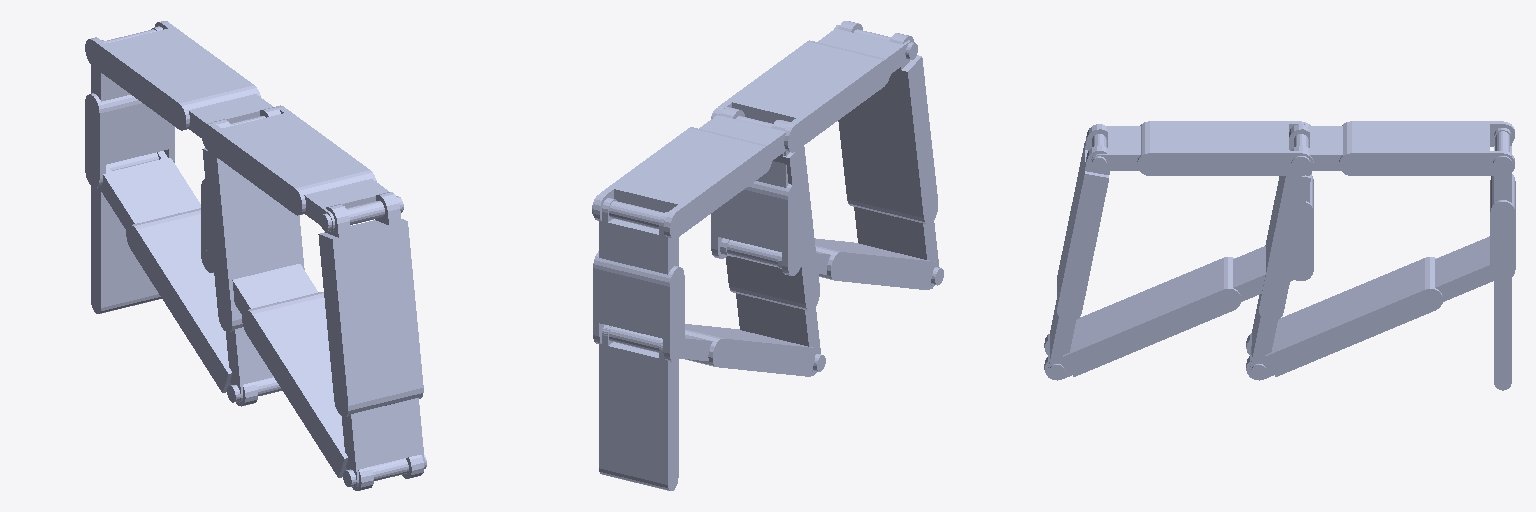
robot.urdf — larva54:
<?xml version="1.0" encoding="utf-8"?>
<!-- This URDF was automatically created by SolidWorks to URDF Exporter! Originally created by Stephen Brawner ([email redacted]) 
     Commit Version: 1.6.0-4-g7f85cfe  Build Version: 1.6.7995.38578
     For more information, please see http://wiki.ros.org/sw_urdf_exporter -->
<robot
  name="larva54">
  <link
    name="base_link">
    <inertial>
      <origin
        xyz="-0.000499999999999973 0 -4.44089209850063E-16"
        rpy="0 0 0" />
      <mass
        value="5.02654824574367E-05" />
      <inertia
        ixx="4.02123859659494E-10"
        ixy="-5.68086652660395E-26"
        ixz="-7.06335332977124E-26"
        iyy="2.05250720034533E-10"
        iyz="1.93870456067116E-26"
        izz="2.05250720034533E-10" />
    </inertial>
    <visual>
      <origin
        xyz="0 0 0"
        rpy="0 0 0" />
      <geometry>
        <mesh
          filename="package://larva54/meshes/base_link.STL" />
      </geometry>
      <material
        name="">
        <color
          rgba="0.792156862745098 0.819607843137255 0.933333333333333 1" />
      </material>
    </visual>
    <collision>
      <origin
        xyz="0 0 0"
        rpy="0 0 0" />
      <geometry>
        <mesh
          filename="package://larva54/meshes/base_link.STL" />
      </geometry>
    </collision>
  </link>
  <link
    name="rsec11">
    <inertial>
      <origin
        xyz="0.0150000000000001 -0.0272479653741931 4.44089209850063E-16"
        rpy="0 0 0" />
      <mass
        value="0.00814247932954212" />
      <inertia
        ixx="2.58090802782193E-06"
        ixy="-3.71116898050847E-21"
        ixz="-6.24497133474091E-22"
        iyy="9.04351126416434E-07"
        iyz="1.02702744854584E-20"
        izz="3.27245109843997E-06" />
    </inertial>
    <visual>
      <origin
        xyz="0 0 0"
        rpy="0 0 0" />
      <geometry>
        <mesh
          filename="package://larva54/meshes/rsec11.STL" />
      </geometry>
      <material
        name="">
        <color
          rgba="0.792156862745098 0.819607843137255 0.933333333333333 1" />
      </material>
    </visual>
    <collision>
      <origin
        xyz="0 0 0"
        rpy="0 0 0" />
      <geometry>
        <mesh
          filename="package://larva54/meshes/rsec11.STL" />
      </geometry>
    </collision>
  </link>
  <joint
    name="rjoint11"
    type="revolute">
    <origin
      xyz="-0.031 0 0"
      rpy="0 0 0" />
    <parent
      link="base_link" />
    <child
      link="rsec11" />
    <axis
      xyz="1 0 0" />
    <limit
      lower="-3.14"
      upper="3.14"
      effort="100"
      velocity="100" />
  </joint>
  <link
    name="psec11">
    <inertial>
      <origin
        xyz="5.82867087928207E-16 -0.0444356741319128 -4.44089209850063E-16"
        rpy="0 0 0" />
      <mass
        value="0.00950290648044837" />
      <inertia
        ixx="2.06910554500492E-06"
        ixy="1.61044855384348E-21"
        ixz="1.6362477167982E-24"
        iyy="6.3101540452144E-07"
        iyz="2.96461531539005E-21"
        izz="2.62322222113119E-06" />
    </inertial>
    <visual>
      <origin
        xyz="0 0 0"
        rpy="0 0 0" />
      <geometry>
        <mesh
          filename="package://larva54/meshes/psec11.STL" />
      </geometry>
      <material
        name="">
        <color
          rgba="0.792156862745098 0.819607843137255 0.933333333333333 1" />
      </material>
    </visual>
    <collision>
      <origin
        xyz="0 0 0"
        rpy="0 0 0" />
      <geometry>
        <mesh
          filename="package://larva54/meshes/psec11.STL" />
      </geometry>
    </collision>
  </link>
  <joint
    name="pjoint11"
    type="prismatic">
    <origin
      xyz="0.0150000000000004 -0.00800000000000095 0"
      rpy="0 0 0" />
    <parent
      link="rsec11" />
    <child
      link="psec11" />
    <axis
      xyz="0 -1 0" />
    <limit
      lower="-0.01"
      upper="0.01"
      effort="100"
      velocity="100" />
  </joint>
  <link
    name="rsec12">
    <inertial>
      <origin
        xyz="0.0149999999999993 -0.00521814457836545 -0.0282191168584589"
        rpy="0 0 0" />
      <mass
        value="0.00900245720098014" />
      <inertia
        ixx="3.53141255495156E-06"
        ixy="-1.21392399109586E-21"
        ixz="-2.01856962146286E-21"
        iyy="4.16190674038217E-06"
        iyz="-5.89210772270563E-07"
        izz="1.08447769952084E-06" />
    </inertial>
    <visual>
      <origin
        xyz="0 0 0"
        rpy="0 0 0" />
      <geometry>
        <mesh
          filename="package://larva54/meshes/rsec12.STL" />
      </geometry>
      <material
        name="">
        <color
          rgba="0.792156862745098 0.819607843137255 0.933333333333333 1" />
      </material>
    </visual>
    <collision>
      <origin
        xyz="0 0 0"
        rpy="0 0 0" />
      <geometry>
        <mesh
          filename="package://larva54/meshes/rsec12.STL" />
      </geometry>
    </collision>
  </link>
  <joint
    name="rjoint12"
    type="revolute">
    <origin
      xyz="-0.0149999999999997 -0.0720000000000022 0"
      rpy="0 0 0" />
    <parent
      link="psec11" />
    <child
      link="rsec12" />
    <axis
      xyz="1 0 0" />
    <limit
      lower="-3.14"
      upper="3.14"
      effort="100"
      velocity="100" />
  </joint>
  <link
    name="psec12">
    <inertial>
      <origin
        xyz="-4.71844785465692E-16 0.0516602747419426 5.39568389967826E-14"
        rpy="0 0 0" />
      <mass
        value="0.0113929064804486" />
      <inertia
        ixx="3.53005448855795E-06"
        ixy="-1.63493131559331E-21"
        ixz="7.98891199277559E-23"
        iyy="7.53550404521461E-07"
        iyz="1.03232140446618E-21"
        izz="4.19127116468423E-06" />
    </inertial>
    <visual>
      <origin
        xyz="0 0 0"
        rpy="0 0 0" />
      <geometry>
        <mesh
          filename="package://larva54/meshes/psec12.STL" />
      </geometry>
      <material
        name="">
        <color
          rgba="0.792156862745098 0.819607843137255 0.933333333333333 1" />
      </material>
    </visual>
    <collision>
      <origin
        xyz="0 0 0"
        rpy="0 0 0" />
      <geometry>
        <mesh
          filename="package://larva54/meshes/psec12.STL" />
      </geometry>
    </collision>
  </link>
  <joint
    name="pjoint12"
    type="prismatic">
    <origin
      xyz="0.0149999999999999 -0.00145466083047219 -0.00786663599439352"
      rpy="-1.75364613025644 0 0" />
    <parent
      link="rsec12" />
    <child
      link="psec12" />
    <axis
      xyz="0 1 0" />
    <limit
      lower="-0.01"
      upper="0.01"
      effort="100"
      velocity="100" />
  </joint>
  <link
    name="rsec13">
    <inertial>
      <origin
        xyz="0.015057761130921 0.030463230470914 0.0140445297245235"
        rpy="0 0 0" />
      <mass
        value="0.0101124572009805" />
      <inertia
        ixx="5.21578447023896E-06"
        ixy="1.42780672513027E-08"
        ixz="6.58264855104289E-09"
        iyy="1.96895737588561E-06"
        iyz="-1.88022704105014E-06"
        izz="5.18041106258412E-06" />
    </inertial>
    <visual>
      <origin
        xyz="0 0 0"
        rpy="0 0 0" />
      <geometry>
        <mesh
          filename="package://larva54/meshes/rsec13.STL" />
      </geometry>
      <material
        name="">
        <color
          rgba="0.792156862745098 0.819607843137255 0.933333333333333 1" />
      </material>
    </visual>
    <collision>
      <origin
        xyz="0 0 0"
        rpy="0 0 0" />
      <geometry>
        <mesh
          filename="package://larva54/meshes/rsec13.STL" />
      </geometry>
    </collision>
  </link>
  <joint
    name="rjoint13"
    type="revolute">
    <origin
      xyz="-0.0154623180616895 0.0842320000000001 0"
      rpy="1.75364613025644 0 0" />
    <parent
      link="psec12" />
    <child
      link="rsec13" />
    <axis
      xyz="1 0 0" />
    <limit
      lower="-3.14"
      upper="3.14"
      effort="100"
      velocity="100" />
  </joint>
  <link
    name="psec13">
    <inertial>
      <origin
        xyz="8.32667268468867E-17 0.0634854251616015 1.68753899743024E-14"
        rpy="0 0 0" />
      <mass
        value="0.0123379064804484" />
      <inertia
        ixx="4.46823934651093E-06"
        ixy="-9.88411408572198E-22"
        ixz="1.03309533318994E-22"
        iyy="8.14817904521441E-07"
        iyz="8.62914815015318E-21"
        izz="5.1830060226372E-06" />
    </inertial>
    <visual>
      <origin
        xyz="0 0 0"
        rpy="0 0 0" />
      <geometry>
        <mesh
          filename="package://larva54/meshes/psec13.STL" />
      </geometry>
      <material
        name="">
        <color
          rgba="0.792156862745098 0.819607843137255 0.933333333333333 1" />
      </material>
    </visual>
    <collision>
      <origin
        xyz="0 0 0"
        rpy="0 0 0" />
      <geometry>
        <mesh
          filename="package://larva54/meshes/psec13.STL" />
      </geometry>
    </collision>
  </link>
  <joint
    name="pjoint13"
    type="prismatic">
    <origin
      xyz="0.0154623180616888 0.00726507392751519 0.00334943291136325"
      rpy="0.431990326238117 0 0" />
    <parent
      link="rsec13" />
    <child
      link="psec13" />
    <axis
      xyz="0 1 0" />
    <limit
      lower="-0.01"
      upper="0.01"
      effort="100"
      velocity="100" />
  </joint>
  <link
    name="rsec14">
    <inertial>
      <origin
        xyz="0.015 4.44089209850063E-16 -0.0157184703636566"
        rpy="0 0 0" />
      <mass
        value="0.0137603858099909" />
      <inertia
        ixx="2.33230347484184E-06"
        ixy="-5.5595583082376E-22"
        ixz="9.95418394399463E-22"
        iyy="3.25281322158617E-06"
        iyz="-2.17052192733914E-21"
        izz="1.08923903093791E-06" />
    </inertial>
    <visual>
      <origin
        xyz="0 0 0"
        rpy="0 0 0" />
      <geometry>
        <mesh
          filename="package://larva54/meshes/rsec14.STL" />
      </geometry>
      <material
        name="">
        <color
          rgba="0.792156862745098 0.819607843137255 0.933333333333333 1" />
      </material>
    </visual>
    <collision>
      <origin
        xyz="0 0 0"
        rpy="0 0 0" />
      <geometry>
        <mesh
          filename="package://larva54/meshes/rsec14.STL" />
      </geometry>
    </collision>
  </link>
  <joint
    name="rjoint14"
    type="revolute">
    <origin
      xyz="-0.015 0.0985599999999993 0"
      rpy="-0.431990326238117 0 0" />
    <parent
      link="psec13" />
    <child
      link="rsec14" />
    <axis
      xyz="1 0 0" />
    <limit
      lower="-3.14"
      upper="3.14"
      effort="100"
      velocity="100" />
  </joint>
  <link
    name="psec14">
    <inertial>
      <origin
        xyz="-1.66533453693773E-16 0.0218035208950598 -2.22044604925031E-16"
        rpy="0 0 0" />
      <mass
        value="0.00694913649691772" />
      <inertia
        ixx="5.77071801345558E-07"
        ixy="-5.29859473379937E-22"
        ixz="-2.75929745882599E-22"
        iyy="4.75978173293698E-07"
        iyz="-5.29395592033938E-22"
        izz="1.00011721116997E-06" />
    </inertial>
    <visual>
      <origin
        xyz="0 0 0"
        rpy="0 0 0" />
      <geometry>
        <mesh
          filename="package://larva54/meshes/psec14.STL" />
      </geometry>
      <material
        name="">
        <color
          rgba="0.792156862745098 0.819607843137255 0.933333333333333 1" />
      </material>
    </visual>
    <collision>
      <origin
        xyz="0 0 0"
        rpy="0 0 0" />
      <geometry>
        <mesh
          filename="package://larva54/meshes/psec14.STL" />
      </geometry>
    </collision>
  </link>
  <joint
    name="pjoint14"
    type="prismatic">
    <origin
      xyz="0.0150000000000003 0 0.00799999999999912"
      rpy="1.5707963267949 0 0" />
    <parent
      link="rsec14" />
    <child
      link="psec14" />
    <axis
      xyz="0 1 0" />
    <limit
      lower="-0.01"
      upper="0.01"
      effort="100"
      velocity="100" />
  </joint>
  <link
    name="rsec21">
    <inertial>
      <origin
        xyz="0.0149999999999993 -0.0272479653741917 -4.44089209850063E-16"
        rpy="0 0 0" />
      <mass
        value="0.0081424793295423" />
      <inertia
        ixx="2.58090802782197E-06"
        ixy="-4.06460921165278E-21"
        ixz="-8.36274219475207E-22"
        iyy="9.04351126416445E-07"
        iyz="2.43521972335611E-21"
        izz="3.27245109844002E-06" />
    </inertial>
    <visual>
      <origin
        xyz="0 0 0"
        rpy="0 0 0" />
      <geometry>
        <mesh
          filename="package://larva54/meshes/rsec21.STL" />
      </geometry>
      <material
        name="">
        <color
          rgba="0.792156862745098 0.819607843137255 0.933333333333333 1" />
      </material>
    </visual>
    <collision>
      <origin
        xyz="0 0 0"
        rpy="0 0 0" />
      <geometry>
        <mesh
          filename="package://larva54/meshes/rsec21.STL" />
      </geometry>
    </collision>
  </link>
  <joint
    name="rjoint21"
    type="revolute">
    <origin
      xyz="0 0 0"
      rpy="0 0 0" />
    <parent
      link="rsec12" />
    <child
      link="rsec21" />
    <axis
      xyz="1 0 0" />
    <limit
      lower="-3.14"
      upper="3.14"
      effort="100"
      velocity="100" />
  </joint>
  <link
    name="psec21">
    <inertial>
      <origin
        xyz="-1.38777878078145E-16 -0.0444356741319121 -8.88178419700125E-16"
        rpy="0 0 0" />
      <mass
        value="0.00950290648044836" />
      <inertia
        ixx="2.06910554500492E-06"
        ixy="-1.11624648795648E-21"
        ixz="4.00861393654419E-23"
        iyy="6.31015404521439E-07"
        iyz="3.78517848304265E-21"
        izz="2.62322222113118E-06" />
    </inertial>
    <visual>
      <origin
        xyz="0 0 0"
        rpy="0 0 0" />
      <geometry>
        <mesh
          filename="package://larva54/meshes/psec21.STL" />
      </geometry>
      <material
        name="">
        <color
          rgba="0.792156862745098 0.819607843137255 0.933333333333333 1" />
      </material>
    </visual>
    <collision>
      <origin
        xyz="0 0 0"
        rpy="0 0 0" />
      <geometry>
        <mesh
          filename="package://larva54/meshes/psec21.STL" />
      </geometry>
    </collision>
  </link>
  <joint
    name="pjoint21"
    type="prismatic">
    <origin
      xyz="0.015 -0.008 0"
      rpy="0 0 0" />
    <parent
      link="rsec21" />
    <child
      link="psec21" />
    <axis
      xyz="0 -1 0" />
    <limit
      lower="-0.01"
      upper="0.01"
      effort="100"
      velocity="100" />
  </joint>
  <link
    name="rsec22">
    <inertial>
      <origin
        xyz="0.0149999999999998 -0.00521814457841319 -0.0282191168584514"
        rpy="0 0 0" />
      <mass
        value="0.00900245720098042" />
      <inertia
        ixx="3.53141255495168E-06"
        ixy="-5.12518169075502E-22"
        ixz="-9.17758538051067E-21"
        iyy="4.16190674038227E-06"
        iyz="-5.8921077227065E-07"
        izz="1.0844776995209E-06" />
    </inertial>
    <visual>
      <origin
        xyz="0 0 0"
        rpy="0 0 0" />
      <geometry>
        <mesh
          filename="package://larva54/meshes/rsec22.STL" />
      </geometry>
      <material
        name="">
        <color
          rgba="0.792156862745098 0.819607843137255 0.933333333333333 1" />
      </material>
    </visual>
    <collision>
      <origin
        xyz="0 0 0"
        rpy="0 0 0" />
      <geometry>
        <mesh
          filename="package://larva54/meshes/rsec22.STL" />
      </geometry>
    </collision>
  </link>
  <joint
    name="rjoint22"
    type="revolute">
    <origin
      xyz="-0.015 -0.072 0"
      rpy="0 0 0" />
    <parent
      link="psec21" />
    <child
      link="rsec22" />
    <axis
      xyz="1 0 0" />
    <limit
      lower="-3.14"
      upper="3.14"
      effort="100"
      velocity="100" />
  </joint>
  <link
    name="psec22">
    <inertial>
      <origin
        xyz="-5.55111512312578E-17 0.051660274741943 2.22044604925031E-16"
        rpy="0 0 0" />
      <mass
        value="0.0113929064804486" />
      <inertia
        ixx="3.53005448855797E-06"
        ixy="1.49595520965315E-21"
        ixz="-1.42023912026461E-21"
        iyy="7.53550404521458E-07"
        iyz="3.04402465419514E-21"
        izz="4.19127116468425E-06" />
    </inertial>
    <visual>
      <origin
        xyz="0 0 0"
        rpy="0 0 0" />
      <geometry>
        <mesh
          filename="package://larva54/meshes/psec22.STL" />
      </geometry>
      <material
        name="">
        <color
          rgba="0.792156862745098 0.819607843137255 0.933333333333333 1" />
      </material>
    </visual>
    <collision>
      <origin
        xyz="0 0 0"
        rpy="0 0 0" />
      <geometry>
        <mesh
          filename="package://larva54/meshes/psec22.STL" />
      </geometry>
    </collision>
  </link>
  <joint
    name="pjoint22"
    type="prismatic">
    <origin
      xyz="0.015 -0.0014547 -0.0078666"
      rpy="-1.7536 0 0" />
    <parent
      link="rsec22" />
    <child
      link="psec22" />
    <axis
      xyz="0 1 0" />
    <limit
      lower="-0.01"
      upper="0.01"
      effort="100"
      velocity="100" />
  </joint>
  <link
    name="rsec23">
    <inertial>
      <origin
        xyz="0.0150577611309209 0.030463230470942 0.0140445297245173"
        rpy="0 0 0" />
      <mass
        value="0.0101124572009803" />
      <inertia
        ixx="5.21578447023891E-06"
        ixy="1.42780672512999E-08"
        ixz="6.58264855104004E-09"
        iyy="1.96895737588558E-06"
        iyz="-1.88022704105012E-06"
        izz="5.18041106258406E-06" />
    </inertial>
    <visual>
      <origin
        xyz="0 0 0"
        rpy="0 0 0" />
      <geometry>
        <mesh
          filename="package://larva54/meshes/rsec23.STL" />
      </geometry>
      <material
        name="">
        <color
          rgba="0.792156862745098 0.819607843137255 0.933333333333333 1" />
      </material>
    </visual>
    <collision>
      <origin
        xyz="0 0 0"
        rpy="0 0 0" />
      <geometry>
        <mesh
          filename="package://larva54/meshes/rsec23.STL" />
      </geometry>
    </collision>
  </link>
  <joint
    name="rjoint23"
    type="revolute">
    <origin
      xyz="-0.015462 0.084232 0"
      rpy="1.7536 0 0" />
    <parent
      link="psec22" />
    <child
      link="rsec23" />
    <axis
      xyz="1 0 0" />
    <limit
      lower="-3.14"
      upper="3.14"
      effort="100"
      velocity="100" />
  </joint>
  <link
    name="psec23">
    <inertial>
      <origin
        xyz="-8.32667268468867E-17 0.0634854251616257 -1.77635683940025E-15"
        rpy="0 0 0" />
      <mass
        value="0.0123379064804484" />
      <inertia
        ixx="4.46823934651092E-06"
        ixy="-9.17962467694886E-22"
        ixz="-2.8203589353287E-21"
        iyy="8.14817904521439E-07"
        iyz="2.38228016415272E-21"
        izz="5.18300602263718E-06" />
    </inertial>
    <visual>
      <origin
        xyz="0 0 0"
        rpy="0 0 0" />
      <geometry>
        <mesh
          filename="package://larva54/meshes/psec23.STL" />
      </geometry>
      <material
        name="">
        <color
          rgba="0.792156862745098 0.819607843137255 0.933333333333333 1" />
      </material>
    </visual>
    <collision>
      <origin
        xyz="0 0 0"
        rpy="0 0 0" />
      <geometry>
        <mesh
          filename="package://larva54/meshes/psec23.STL" />
      </geometry>
    </collision>
  </link>
  <joint
    name="pjoint23"
    type="prismatic">
    <origin
      xyz="0.015462 0.0072651 0.0033494"
      rpy="0.43199 0 0" />
    <parent
      link="rsec23" />
    <child
      link="psec23" />
    <axis
      xyz="0 1 0" />
    <limit
      lower="-0.01"
      upper="0.01"
      effort="100"
      velocity="100" />
  </joint>
  <link
    name="rsec24">
    <inertial>
      <origin
        xyz="0.0149999999999998 1.77635683940025E-15 0.010722070699781"
        rpy="0 0 0" />
      <mass
        value="0.00425747932954244" />
      <inertia
        ixx="2.63197929836907E-07"
        ixy="5.22756796039758E-22"
        ixz="1.18829818982038E-21"
        iyy="6.29591000454958E-07"
        iyz="1.05879118406788E-21"
        izz="4.58223626416461E-07" />
    </inertial>
    <visual>
      <origin
        xyz="0 0 0"
        rpy="0 0 0" />
      <geometry>
        <mesh
          filename="package://larva54/meshes/rsec24.STL" />
      </geometry>
      <material
        name="">
        <color
          rgba="0.792156862745098 0.819607843137255 0.933333333333333 1" />
      </material>
    </visual>
    <collision>
      <origin
        xyz="0 0 0"
        rpy="0 0 0" />
      <geometry>
        <mesh
          filename="package://larva54/meshes/rsec24.STL" />
      </geometry>
    </collision>
  </link>
  <joint
    name="rjoint24"
    type="revolute">
    <origin
      xyz="-0.015 0.09856 0"
      rpy="-0.43199 0 0" />
    <parent
      link="psec23" />
    <child
      link="rsec24" />
    <axis
      xyz="1 0 0" />
    <limit
      lower="-3.14"
      upper="3.14"
      effort="100"
      velocity="100" />
  </joint>
  <link
    name="psec24">
    <inertial>
      <origin
        xyz="2.77555756156289E-17 -0.0218035208950567 -2.22044604925031E-16"
        rpy="0 0 0" />
      <mass
        value="0.00694913649691771" />
      <inertia
        ixx="5.77071801345557E-07"
        ixy="-3.24751036015422E-22"
        ixz="-2.81407102715262E-22"
        iyy="4.75978173293697E-07"
        iyz="2.38228016415272E-22"
        izz="1.00011721116997E-06" />
    </inertial>
    <visual>
      <origin
        xyz="0 0 0"
        rpy="0 0 0" />
      <geometry>
        <mesh
          filename="package://larva54/meshes/psec24.STL" />
      </geometry>
      <material
        name="">
        <color
          rgba="0.792156862745098 0.819607843137255 0.933333333333333 1" />
      </material>
    </visual>
    <collision>
      <origin
        xyz="0 0 0"
        rpy="0 0 0" />
      <geometry>
        <mesh
          filename="package://larva54/meshes/psec24.STL" />
      </geometry>
    </collision>
  </link>
  <joint
    name="pjoint24"
    type="prismatic">
    <origin
      xyz="0.015 0 0.008"
      rpy="-1.5708 0 3.1416" />
    <parent
      link="rsec24" />
    <child
      link="psec24" />
    <axis
      xyz="0 -1 0" />
    <limit
      lower="-0.01"
      upper="0.01"
      effort="100"
      velocity="100" />
  </joint>
  <link
    name="link12">
    <inertial>
      <origin
        xyz="-0.000500000000000111 6.66133814775094E-16 -1.77635683940025E-15"
        rpy="0 0 0" />
      <mass
        value="5.02654824574367E-05" />
      <inertia
        ixx="4.02123859659494E-10"
        ixy="-2.63932920417233E-25"
        ixz="4.39487528496365E-28"
        iyy="2.05250720034533E-10"
        iyz="4.52364397489938E-26"
        izz="2.05250720034533E-10" />
    </inertial>
    <visual>
      <origin
        xyz="0 0 0"
        rpy="0 0 0" />
      <geometry>
        <mesh
          filename="package://larva54/meshes/link12.STL" />
      </geometry>
      <material
        name="">
        <color
          rgba="0.792156862745098 0.819607843137255 0.933333333333333 1" />
      </material>
    </visual>
    <collision>
      <origin
        xyz="0 0 0"
        rpy="0 0 0" />
      <geometry>
        <mesh
          filename="package://larva54/meshes/link12.STL" />
      </geometry>
    </collision>
  </link>
  <joint
    name="linkjoint12"
    type="continuous">
    <origin
      xyz="0.031 0 0"
      rpy="0 0 0" />
    <parent
      link="rsec21" />
    <child
      link="link12" />
    <axis
      xyz="-1 0 0" />
    <limit
      lower="-3.14"
      upper="3.14"
      effort="100"
      velocity="100" />
  </joint>
</robot>

--- Facts derived from the render (not from the file) ---
3 views of the same robot in one strip: view 1: azimuth 30°, elevation 25°; view 2: azimuth 150°, elevation 25°; view 3: azimuth 270°, elevation 25° (orthographic).
Robot: larva54 — 18 links, 17 joints (8 revolute, 1 continuous, 8 prismatic); root link base_link; default pose: all joints at 0.
Links seen in each view (by area): view 1: rsec22, rsec14, rsec23, rsec12, rsec13, rsec11, rsec21, psec13, psec22, psec23, psec21, psec12 (+3 smaller); view 2: rsec14, rsec22, rsec11, rsec21, rsec24, rsec12, rsec13, rsec23, psec14, psec22, psec12, psec21 (+3 smaller); view 3: rsec13, rsec23, rsec11, rsec21, rsec22, rsec12, rsec14, psec13, rsec24, psec21, psec23, psec11 (+3 smaller).
Link boxes in pixels (x1,y1,x2,y2): rsec22: (318, 192, 423, 416); rsec14: (85, 93, 174, 313); rsec23: (242, 292, 426, 490); rsec12: (202, 107, 304, 331); rsec13: (126, 208, 281, 406); rsec11: (85, 21, 260, 130); rsec21: (201, 105, 376, 215); psec13: (99, 151, 200, 230); psec22: (342, 398, 424, 487); psec23: (232, 264, 317, 315); psec21: (304, 179, 400, 231); psec12: (226, 327, 273, 402); rsec14: (593, 251, 684, 490); rsec22: (834, 21, 937, 224); rsec11: (593, 127, 772, 238); rsec21: (712, 40, 890, 152); rsec24: (711, 181, 802, 275); rsec12: (720, 107, 819, 310); rsec13: (685, 324, 825, 376); rsec23: (815, 238, 943, 289); psec14: (599, 198, 679, 274); psec22: (854, 207, 938, 285); psec12: (736, 293, 820, 371); psec21: (818, 26, 913, 73); rsec13: (1246, 257, 1442, 380); rsec23: (1044, 257, 1240, 380); rsec11: (1339, 121, 1514, 175); rsec21: (1137, 121, 1313, 175); rsec22: (1057, 124, 1109, 321); rsec12: (1259, 124, 1311, 321); rsec14: (1490, 174, 1515, 390); psec13: (1435, 236, 1495, 301); rsec24: (1289, 174, 1313, 280); psec21: (1091, 126, 1140, 170); psec23: (1233, 246, 1293, 301); psec11: (1310, 126, 1342, 170).
Size in the robot's own frame: 0.0315 by 0.1868 by 0.1046 metres.
Meshes: 18 distinct files referenced, 18 mesh visuals loaded (18 binary STL).
